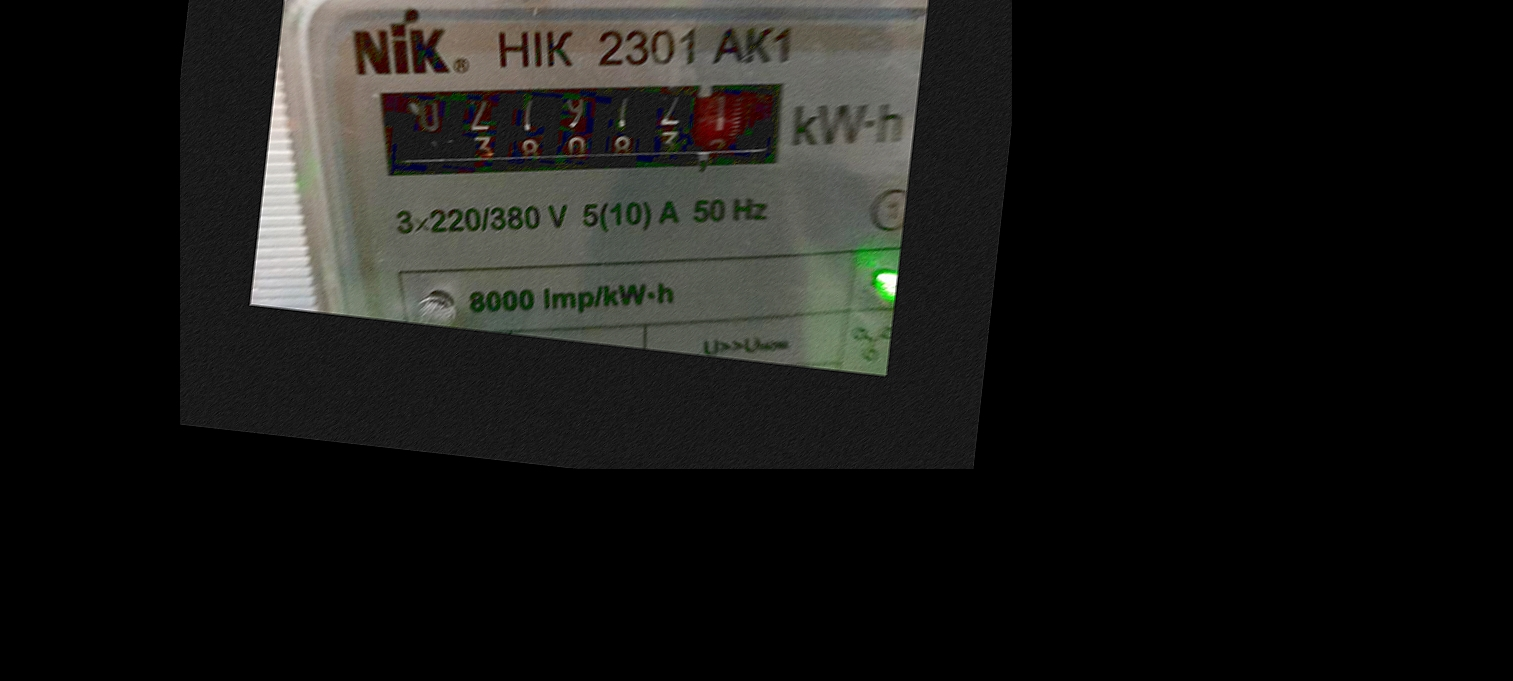0: (415, 94, 447, 133)
1: (710, 90, 736, 135)
2: (464, 90, 498, 132), (656, 87, 688, 127)
7: (609, 87, 639, 131), (515, 93, 542, 132)
9: (562, 91, 592, 129)
screen: (355, 27, 821, 230)
